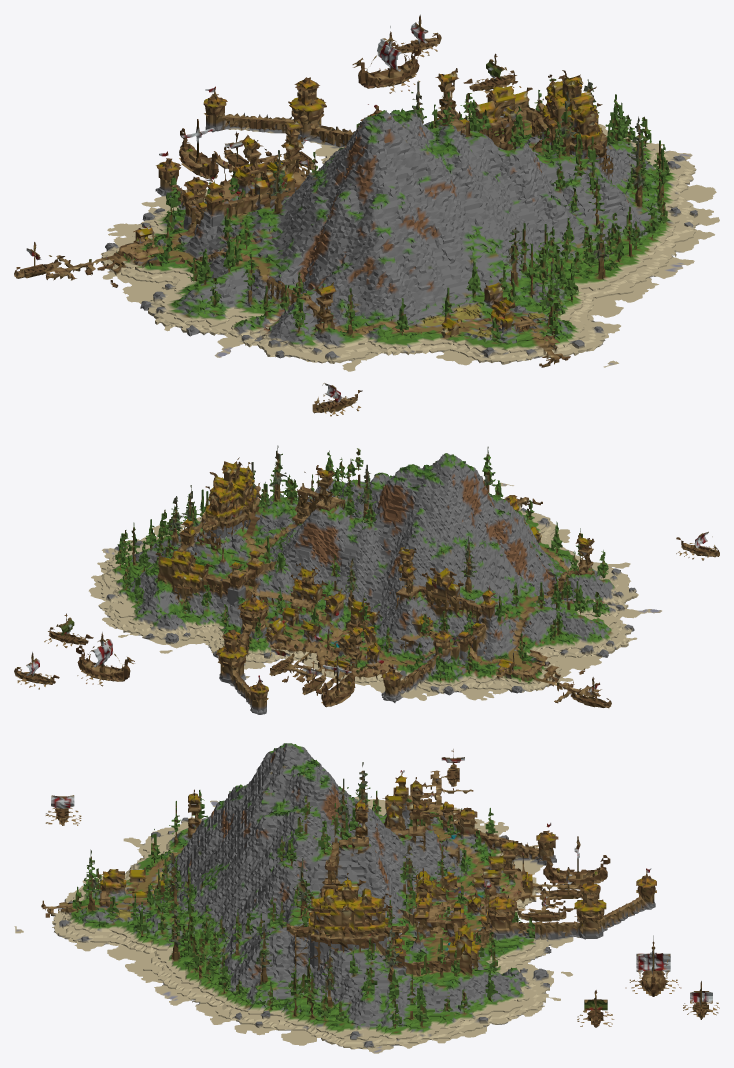
File: island-low.glb
3 renders of one model, top to bottom at view 1: azimuth 30°, elevation 25°; view 2: azimuth 150°, elevation 25°; view 3: azimuth 270°, elevation 25°, orthographic. The views are drawn at different scales.
Parts seen in each view (by area): view 1: chunk-all; view 2: chunk-all; view 3: chunk-all.
Part boxes in pixels (<box>): chunk-all: <box>14,14,719,416</box>; chunk-all: <box>14,445,719,714</box>; chunk-all: <box>14,743,719,1053</box>.
Size of the model in its own units: 493 by 123 by 515.
